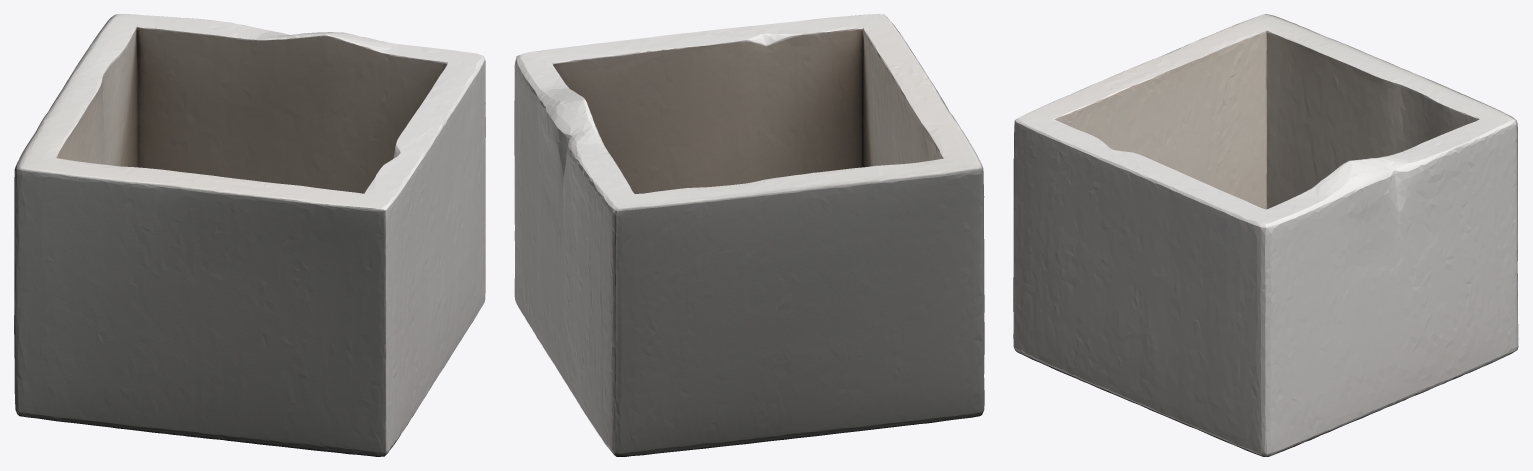
The picture shows the model from 3 angles, left to right: view 1: azimuth 30°, elevation 25°; view 2: azimuth 150°, elevation 25°; view 3: azimuth 270°, elevation 25°; orthographic projection. The views are drawn at different scales.
Visible parts, largest first — view 1: world; view 2: world; view 3: world.
Part boxes in pixels (x1,y1,x2,y2): world: (14, 14, 485, 456); world: (514, 14, 984, 456); world: (1013, 14, 1518, 456).
Bounding box in the file's own units: 0.9867 × 0.5289 × 0.9831.
Materials: 1 (1 with a texture image).
